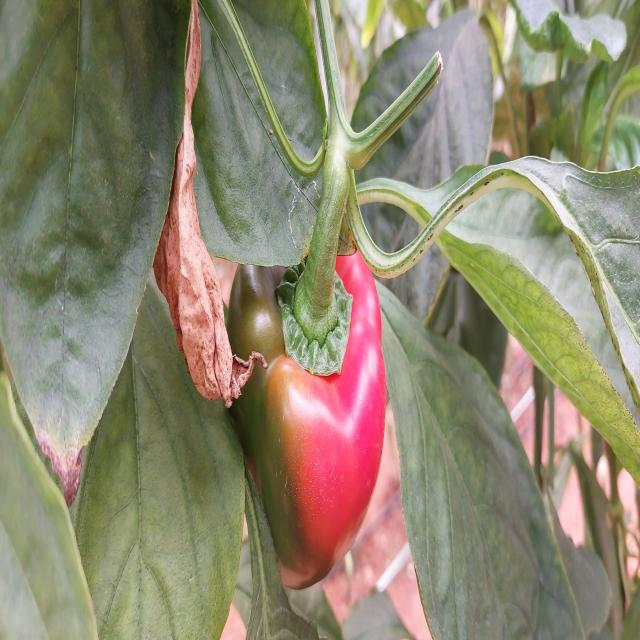Red-Ready-to-Harvest: (224, 226, 400, 597)
